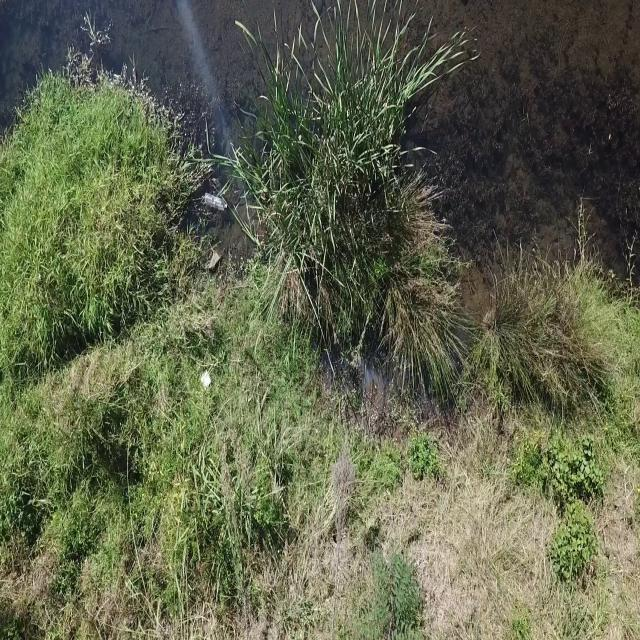Mysore-Thorn-Weed: (359, 545, 426, 640)
